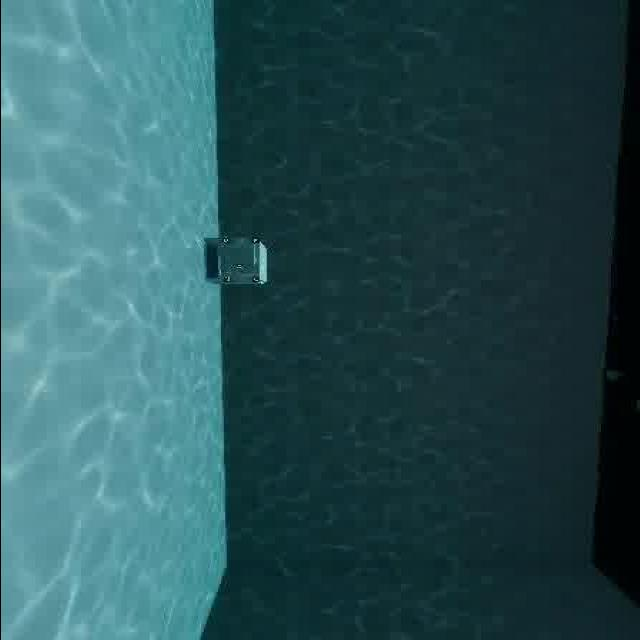Docking Station: (193, 227, 275, 290)
